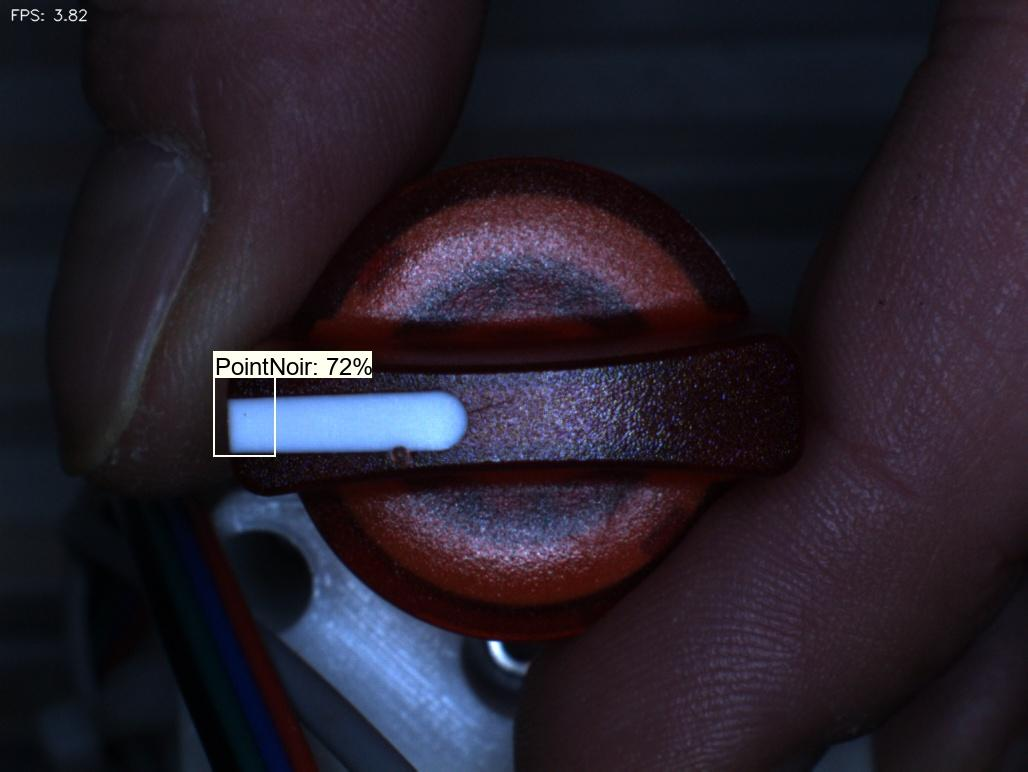Choc: (373, 424, 446, 491)
